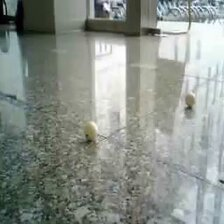w: (83, 122, 99, 141), (184, 93, 195, 106)
